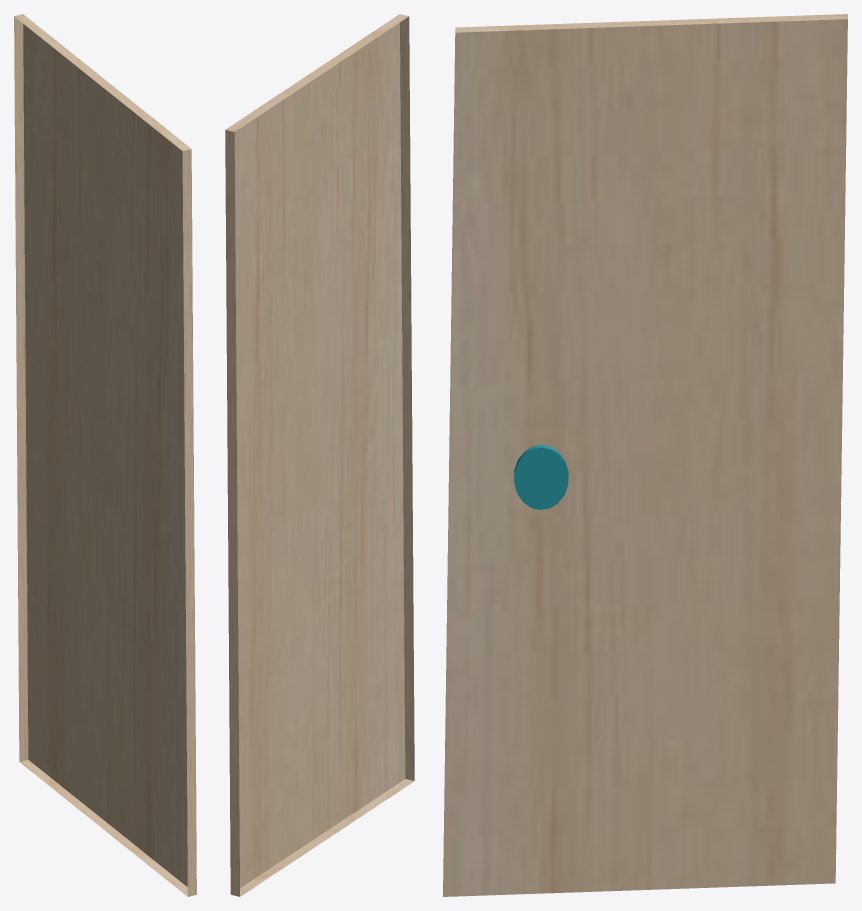
The model's file is AlaPuerta2.obj.
3 renders of one model, left to right at view 1: azimuth 30°, elevation 25°; view 2: azimuth 150°, elevation 25°; view 3: azimuth 270°, elevation 25°, orthographic. The views are drawn at different scales.
Parts seen in each view (by area): view 1: polySurface254; view 2: polySurface254; view 3: polySurface254.
Boxes of the visible parts, x1,y1,x2,y2 form: polySurface254: [14, 14, 196, 896]; polySurface254: [225, 14, 414, 896]; polySurface254: [443, 14, 847, 896].
Size of the model in its own units: 0.0475 by 1.9 by 0.793.
Materials: 2 (2 with a texture image).
